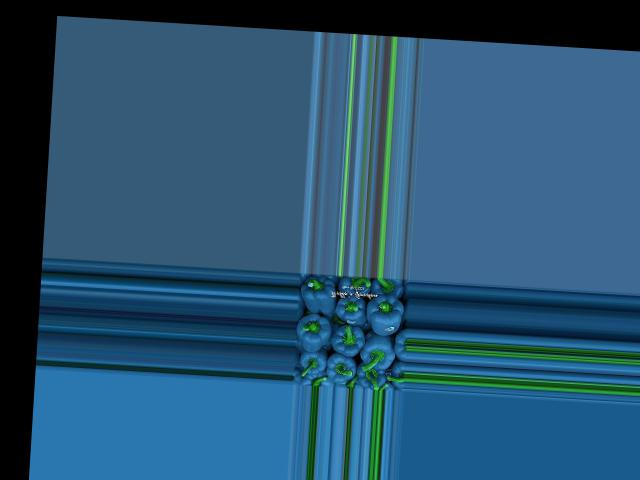bell_pepper: (368, 277, 408, 302)
